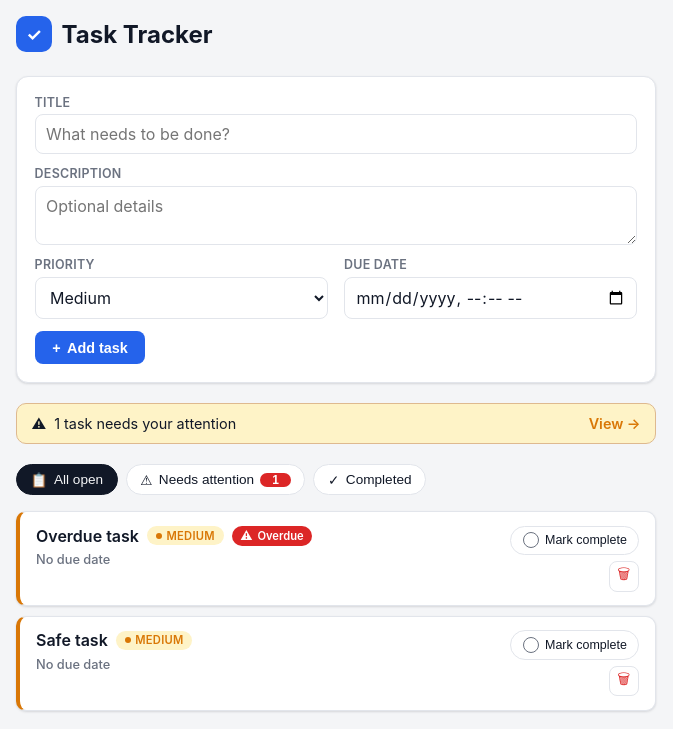
Test: App › re-fetches with the needs_attention filter when that tab is selected
Expected: the text "Safe task" is shown, [36,630,108,650]
Click the tab "⚠ Needs attention 1" at [216, 480], box [126,464,306,495]
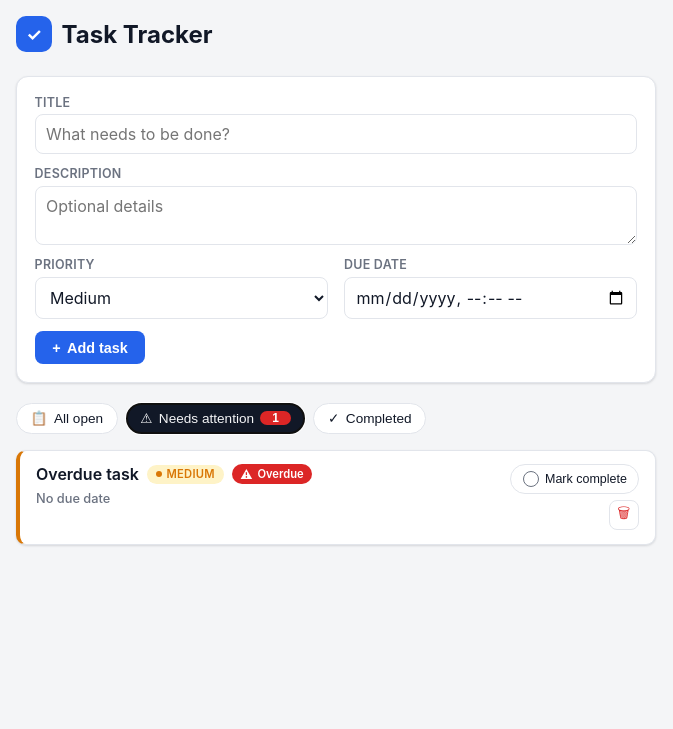
Expected: the text "Overdue task" is shown, [36,464,139,484]
Now the text "Safe task" is gone
